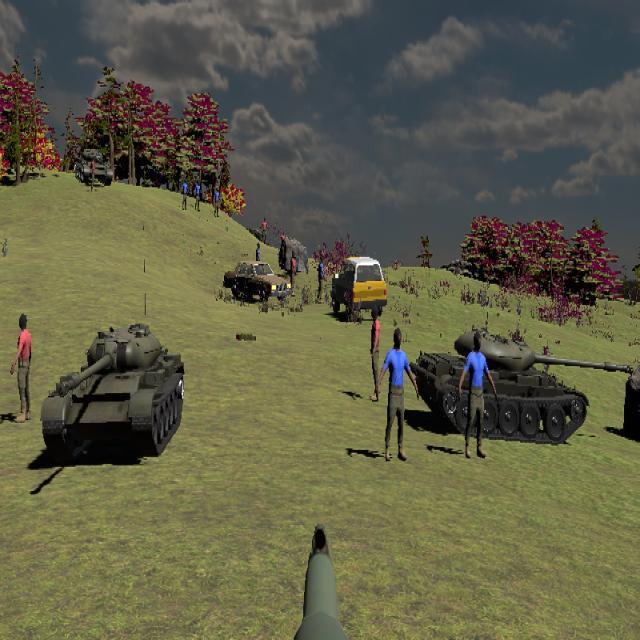Human: (375, 326, 419, 463), (459, 329, 497, 459), (10, 314, 32, 421), (369, 303, 381, 400)
Tank: (412, 329, 637, 445), (41, 322, 185, 462), (75, 148, 113, 187)
car: (331, 256, 387, 321), (223, 260, 292, 302)
